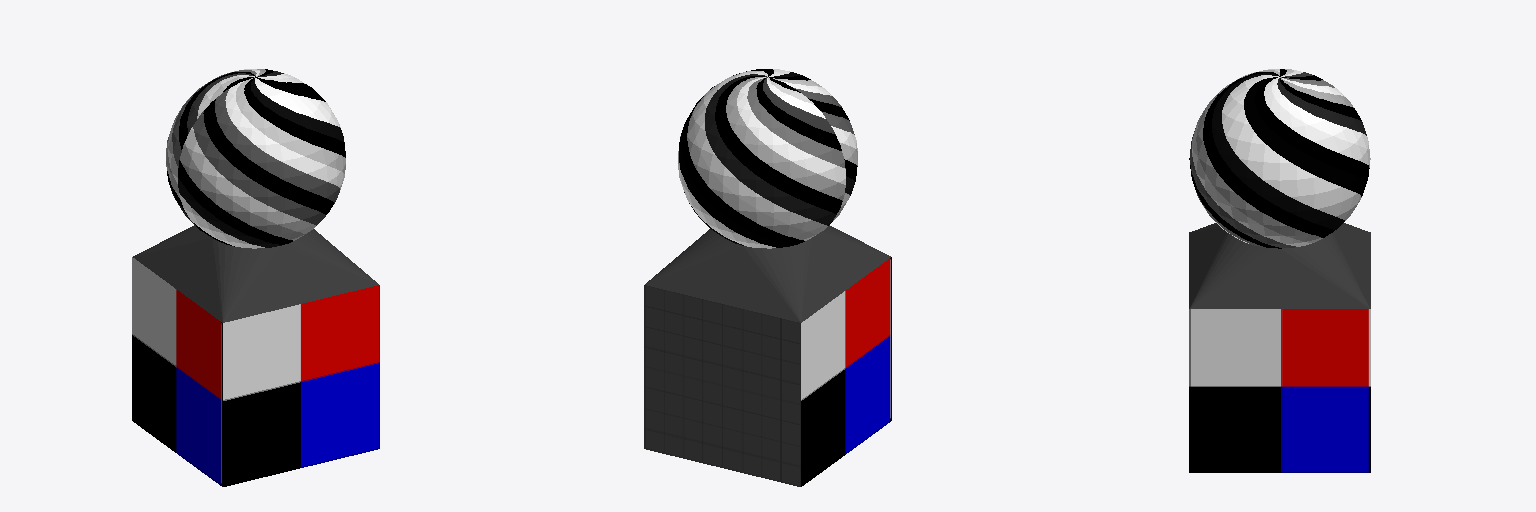
3 renders of one model, left to right at view 1: azimuth 30°, elevation 25°; view 2: azimuth 150°, elevation 25°; view 3: azimuth 270°, elevation 25°, orthographic.
Visible parts, largest first — view 1: Cube; view 2: Cube; view 3: Cube.
Part boxes in pixels (left/top/right/bottom): Cube: left=132, top=69, right=379, bottom=486; Cube: left=644, top=69, right=891, bottom=486; Cube: left=1189, top=69, right=1370, bottom=472.
Size of the model in its own units: 2 by 4.36 by 2.
Materials: 2 (2 with a texture image).